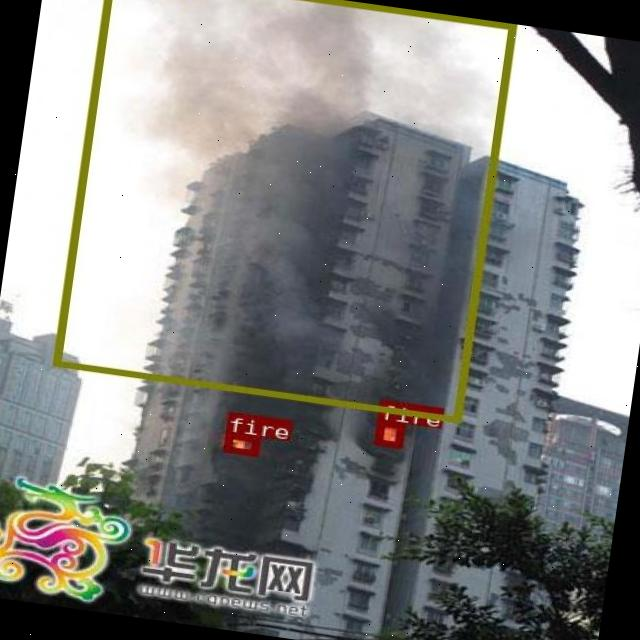fire: (372, 418, 403, 448), (222, 432, 259, 456)
smoke: (52, 0, 516, 421)
